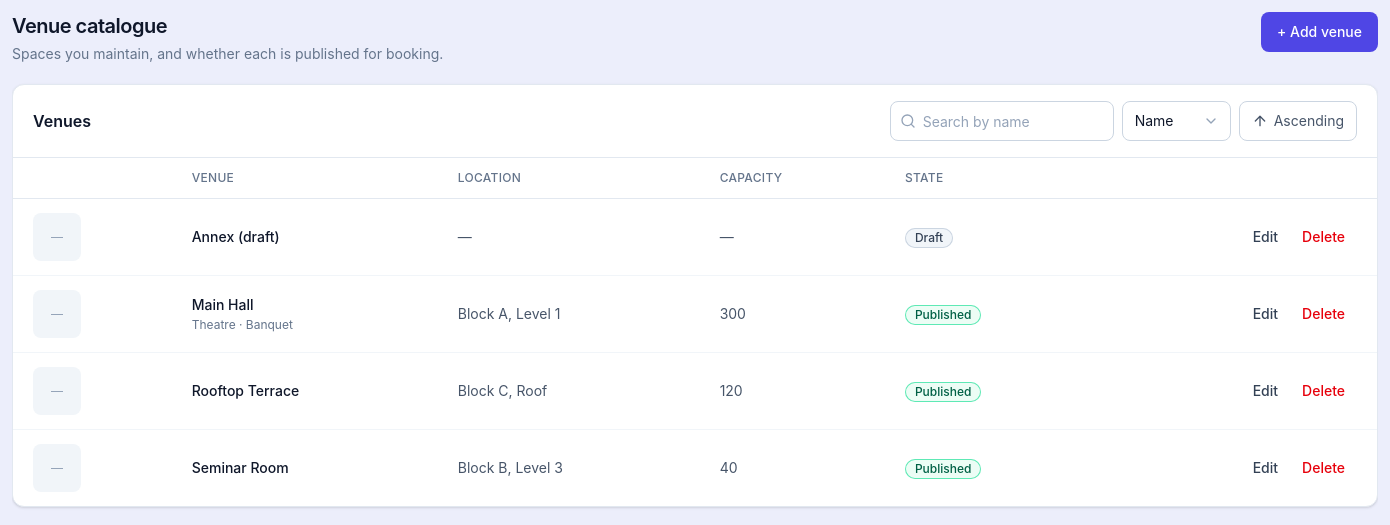
Test: US-15 AC-3: finding a venue without scrolling › looks a venue up by name
Check: the text "Main Hall" is shown, box [192,296,254,313]
Type "hall" into the search field named "Search venues by name". click: point(1002, 121)
box: [890,101,1114,141]
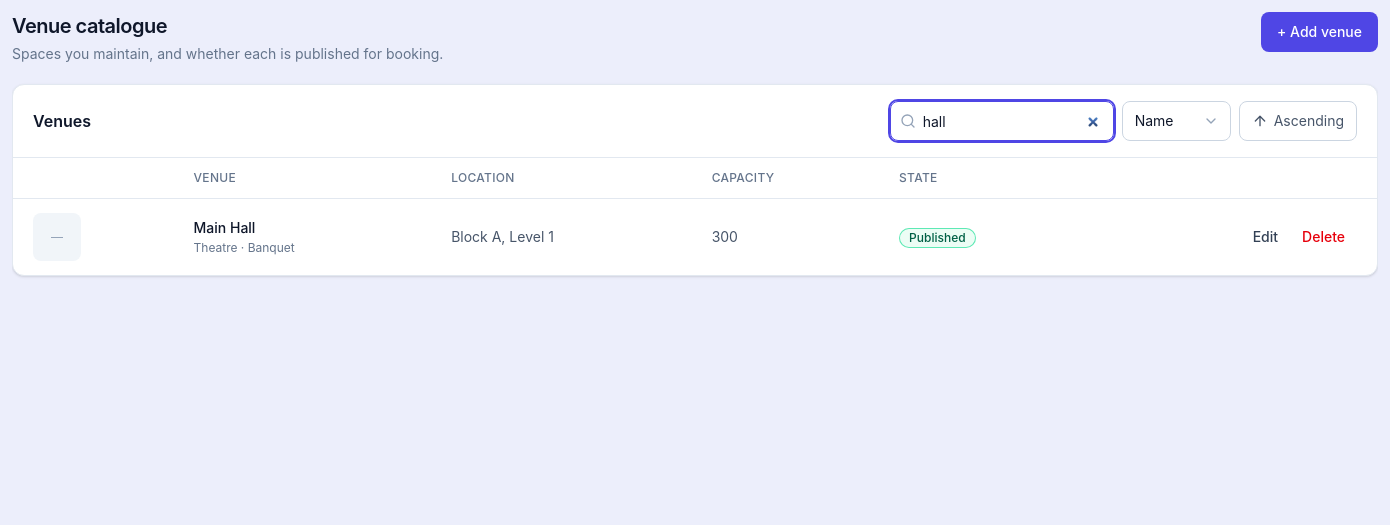
Check: the text "Main Hall" is shown, box [194,219,255,236]
Check: the text "Seminar Room" is gone
